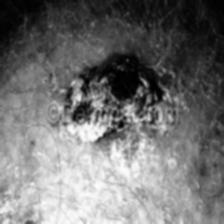Potentially Malignant Skin Tumors: (62, 49, 184, 147), (0, 187, 45, 224)
